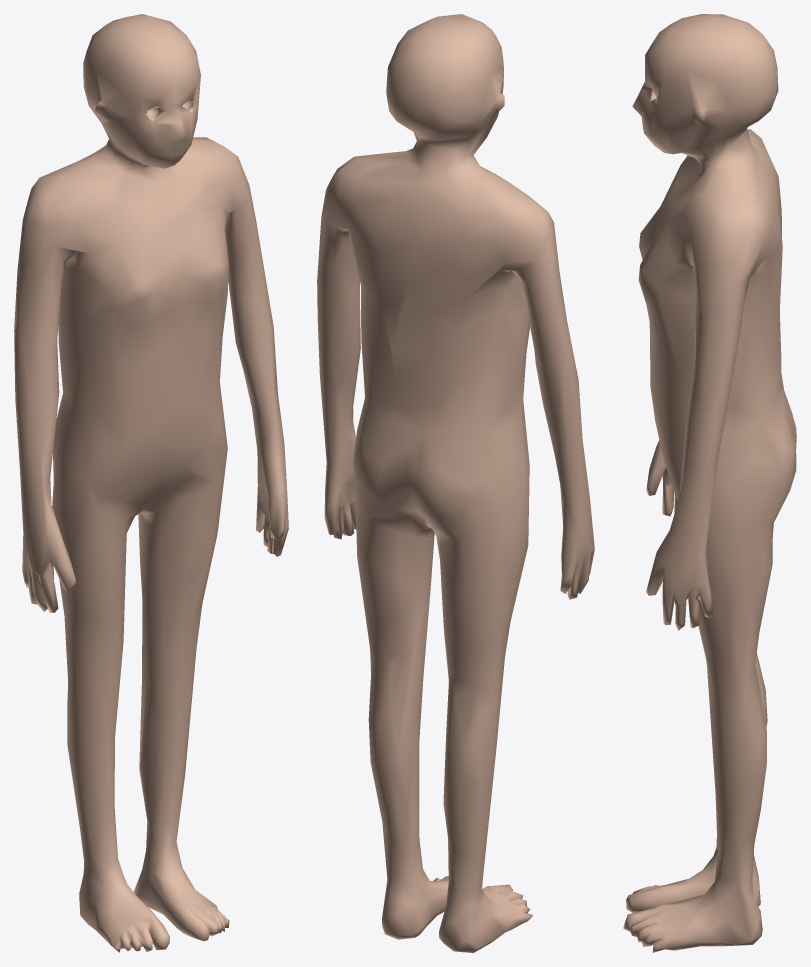
The model's file is pediatric_child_10y_female.surface.LOD3.glb.
3 renders of one model, left to right at view 1: azimuth 30°, elevation 25°; view 2: azimuth 150°, elevation 25°; view 3: azimuth 270°, elevation 25°, orthographic.
Parts seen in each view (by area): view 1: PEDIATRIC.CHILD_10Y.FEMALE.SURFACE.SKIN; view 2: PEDIATRIC.CHILD_10Y.FEMALE.SURFACE.SKIN; view 3: PEDIATRIC.CHILD_10Y.FEMALE.SURFACE.SKIN.
Boxes of the visible parts, x1,y1,x2,y2 form: PEDIATRIC.CHILD_10Y.FEMALE.SURFACE.SKIN: [14, 14, 288, 952]; PEDIATRIC.CHILD_10Y.FEMALE.SURFACE.SKIN: [317, 14, 594, 952]; PEDIATRIC.CHILD_10Y.FEMALE.SURFACE.SKIN: [623, 14, 796, 952].
Size of the model in its own units: 0.4127 by 1.38 by 0.2401.
